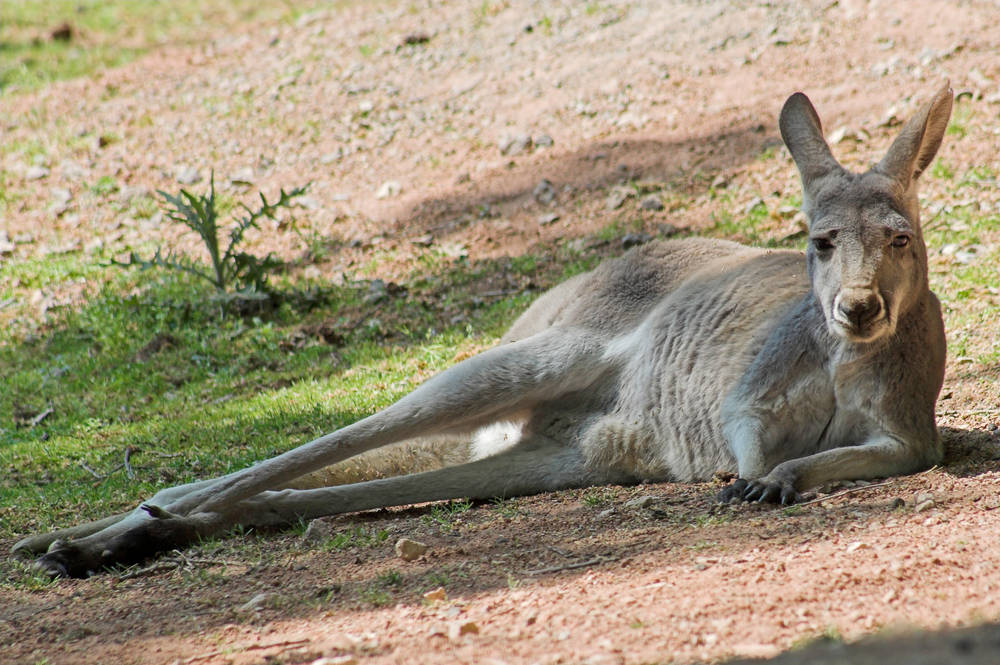kangaroo: (16, 82, 963, 578)
